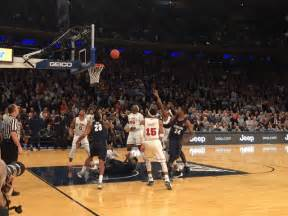basketball: (110, 49, 118, 59)
